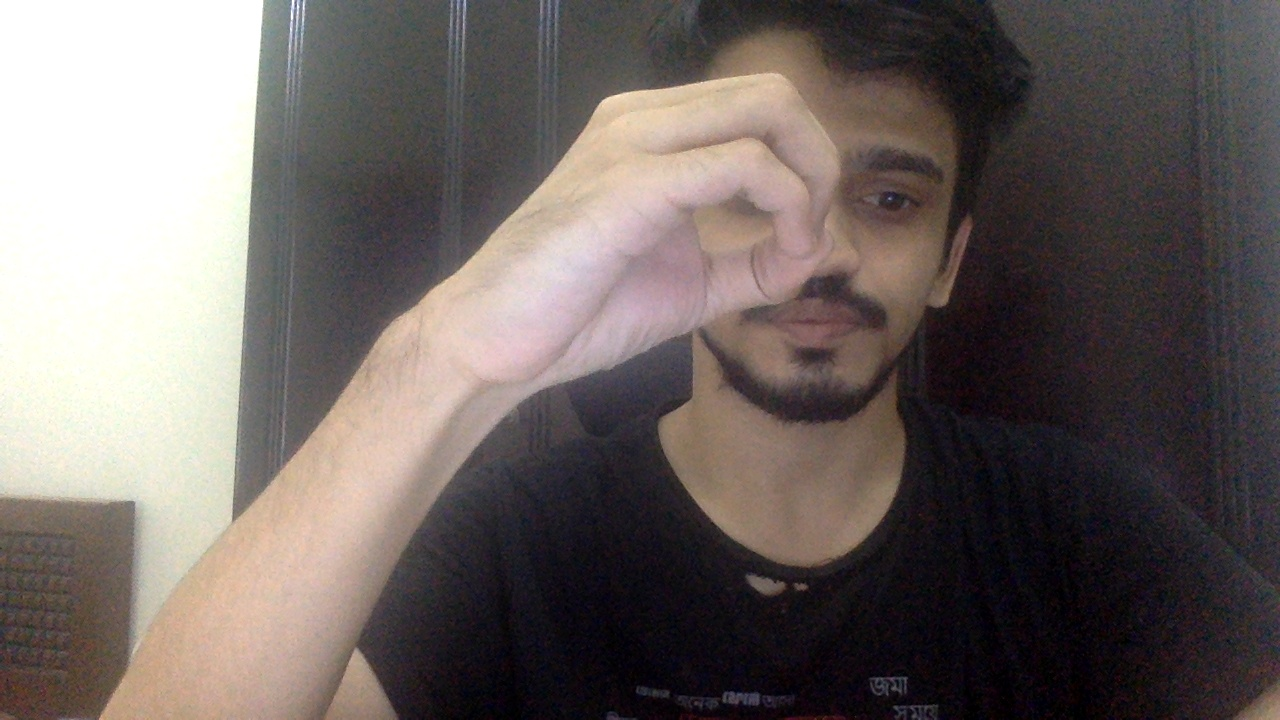zero: (431, 70, 834, 382)
